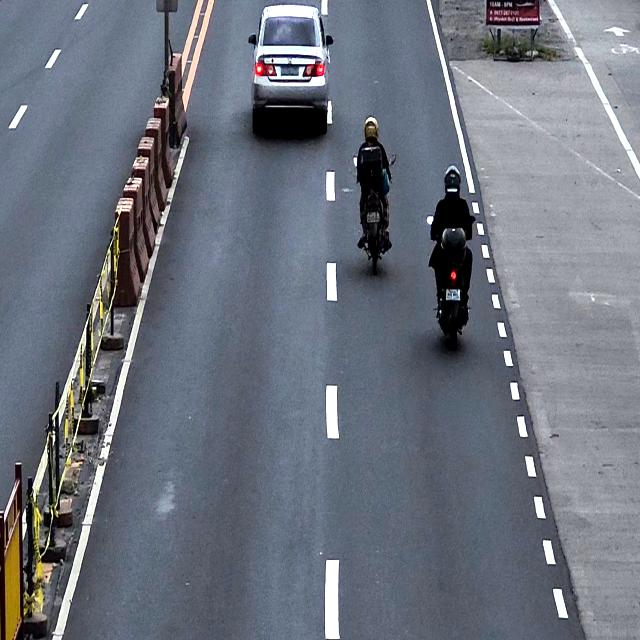Car: (248, 3, 334, 133)
License-Plate: (280, 63, 300, 77), (445, 288, 461, 302), (366, 211, 380, 224)
Motorcycle: (426, 213, 475, 345), (352, 152, 397, 275)
